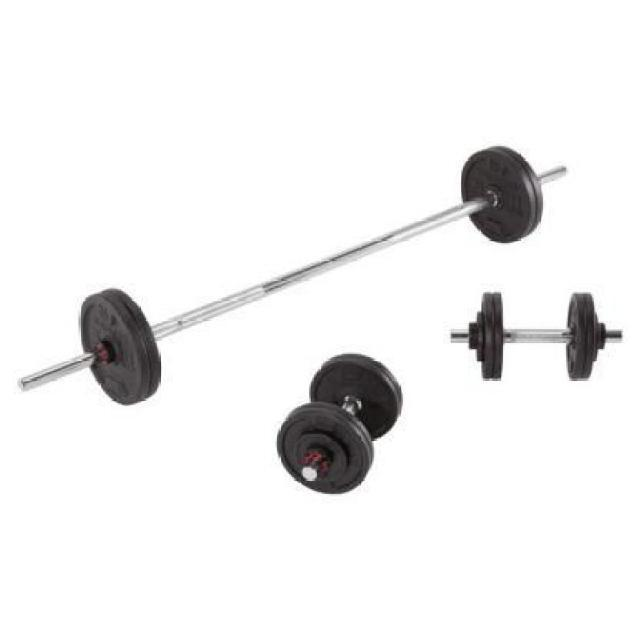Barbell: (12, 365, 40, 407)
